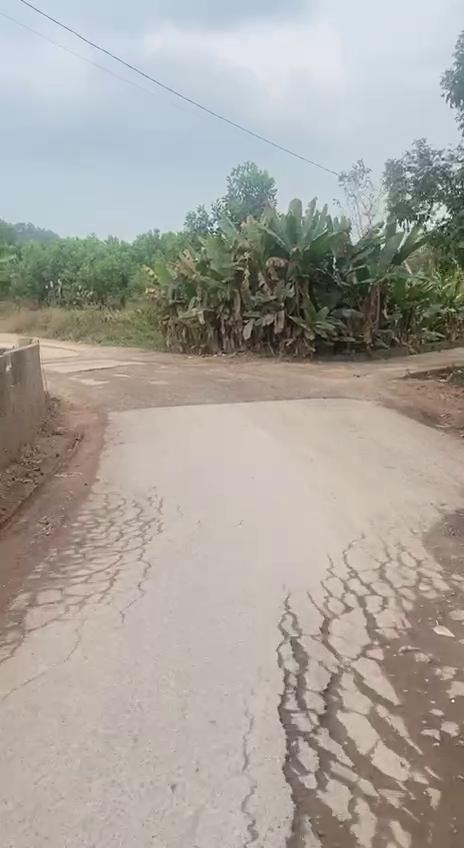pothole: (260, 494, 464, 848)
